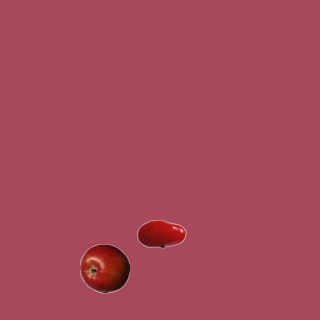Apple Braeburn: (79, 243, 129, 293)
Tomato 2: (136, 208, 186, 258)
